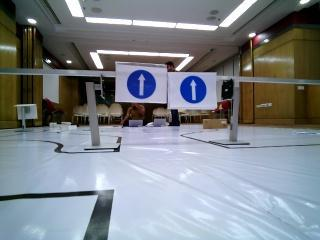straight: (116, 59, 165, 103), (166, 73, 219, 108)
